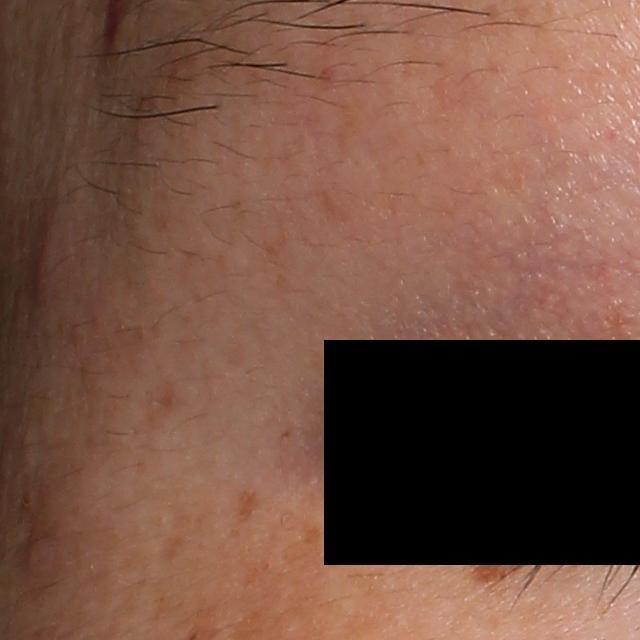melasma: (459, 545, 546, 589), (155, 529, 194, 562), (236, 484, 258, 524), (300, 526, 318, 548)
papule: (31, 212, 69, 298)
